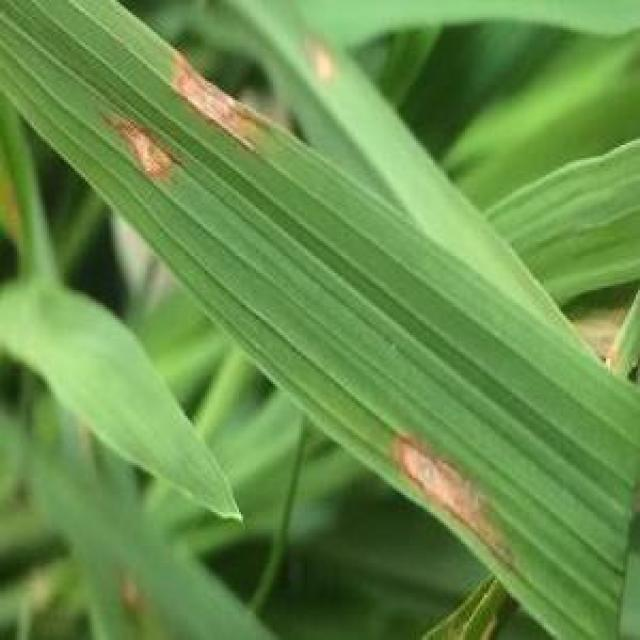Rice_Blast: (384, 425, 509, 527), (137, 56, 286, 136), (87, 108, 184, 188), (116, 578, 155, 619), (306, 47, 343, 84)
